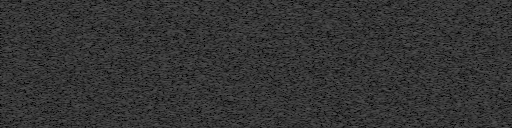wv_cw: (397, 0, 403, 128), (110, 0, 116, 128), (96, 0, 102, 128)
wv_lsb: (5, 28, 10, 73), (344, 26, 348, 47), (5, 116, 10, 128), (344, 60, 348, 72), (344, 6, 348, 16), (345, 73, 348, 85), (344, 98, 349, 105), (344, 91, 348, 97), (6, 96, 9, 104), (344, 86, 349, 90), (345, 121, 348, 127), (345, 106, 348, 112), (5, 79, 9, 83), (345, 17, 348, 22), (6, 108, 9, 112), (6, 84, 9, 88), (6, 74, 9, 78), (6, 2, 9, 5), (345, 54, 348, 57), (345, 48, 348, 51)
wv_usb: (4, 3, 9, 45), (4, 56, 9, 94), (4, 106, 9, 118), (4, 46, 9, 54), (4, 98, 9, 105), (4, 124, 9, 128), (4, 119, 9, 123)
wv_wbfm: (464, 0, 474, 124), (466, 125, 473, 128)
